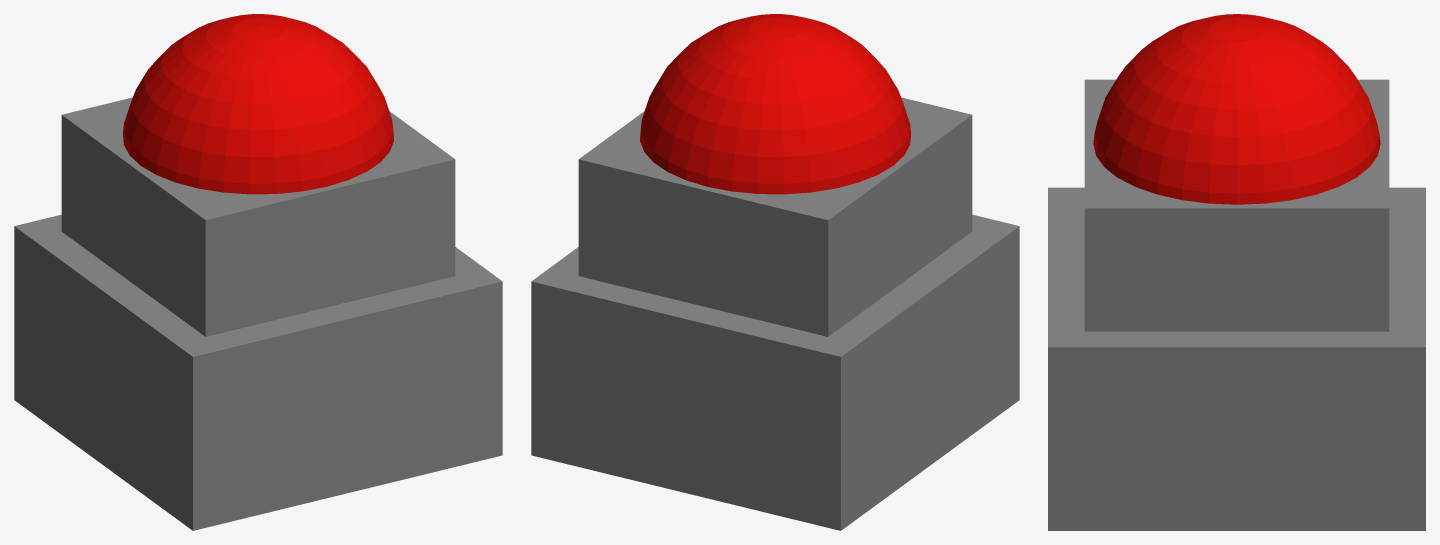
The model's file is roter_button.glb.
3 renders of one model, left to right at view 1: azimuth 30°, elevation 25°; view 2: azimuth 150°, elevation 25°; view 3: azimuth 270°, elevation 25°, orthographic. The views are drawn at different scales.
Visible parts, largest first — view 1: Cube, Cube.001, Sphere; view 2: Cube, Cube.001, Sphere; view 3: Cube, Cube.001, Sphere.
Part boxes in pixels (bbox=[...]): Cube: bbox=[14, 214, 502, 530]; Cube.001: bbox=[61, 97, 455, 336]; Sphere: bbox=[123, 14, 393, 194]; Cube: bbox=[531, 214, 1019, 530]; Cube.001: bbox=[578, 97, 972, 336]; Sphere: bbox=[640, 14, 910, 194]; Cube: bbox=[1048, 187, 1425, 530]; Cube.001: bbox=[1084, 79, 1389, 331]; Sphere: bbox=[1093, 14, 1380, 204].
Size of the model in its own units: 2 by 2.48 by 2.
